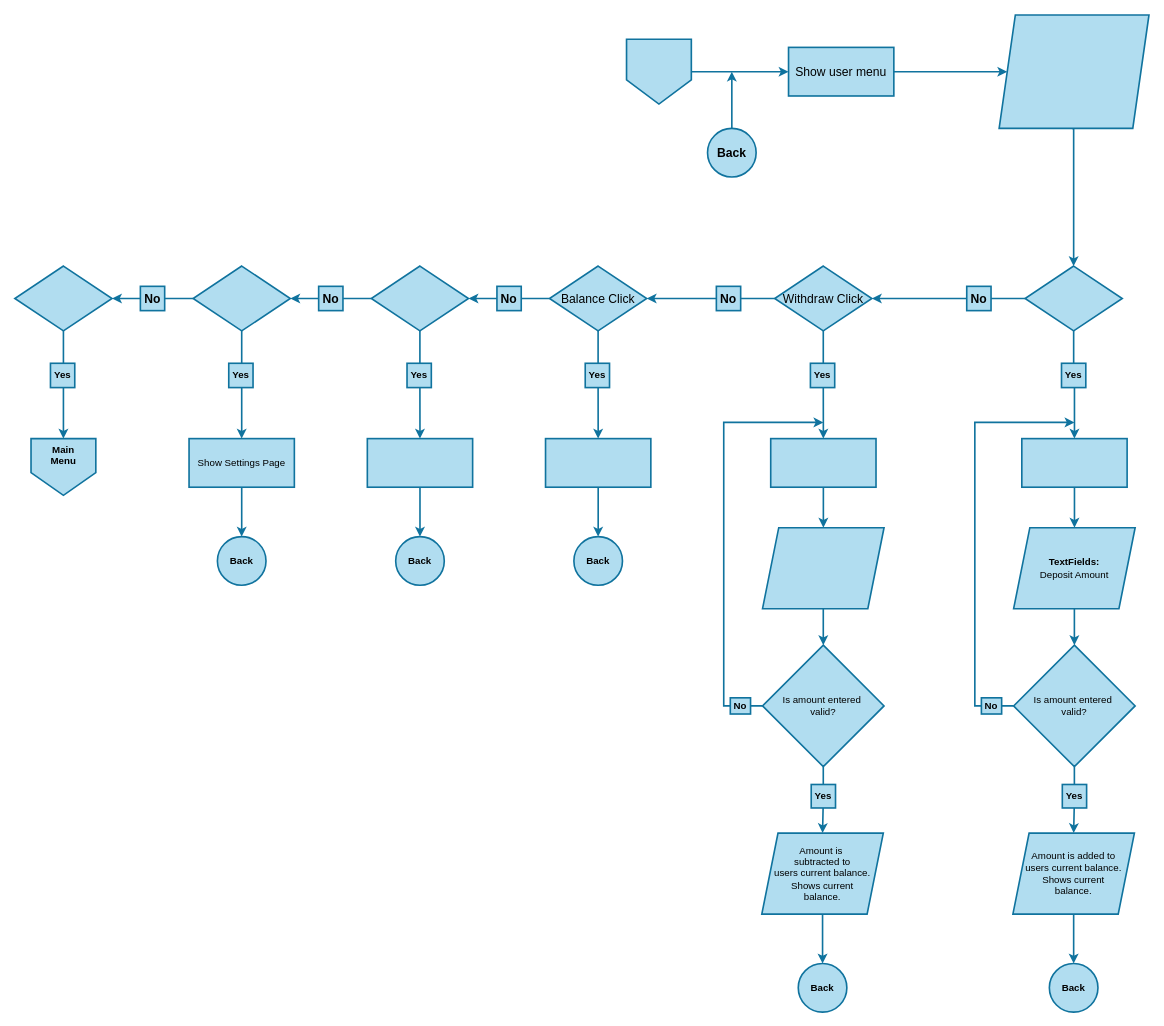
Some shapes in this 1164 by 1026 pixel diagram are drawn without their labels. Here are the shapes that lost their labels. From the top down, the centre of each, then its label:
[658,71]: User menu
[1073,71]: Buttons: Deposit Withdraw Balance Transactions History Settings Logout
[63,298]: Logout Click
[241,298]: Settings Click
[419,298]: Transactions History Click
[1073,298]: Deposit Click
[419,462]: Show users withdraw and deposit history
[597,462]: Show users account number and current balance
[823,462]: Withdraw Page
[1074,462]: Deposit Page
[822,567]: TextFields: Withdraw Amount
